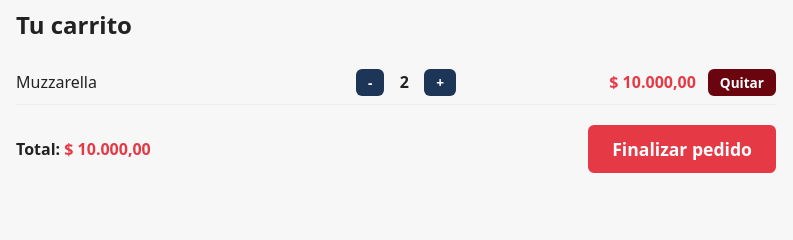
Test: <CartPage> › muestra error si actualizar falla
The image size is (793, 240).
Click the button named "Sumar uno". click: [440, 82]
box: left=424, top=69, right=456, bottom=96
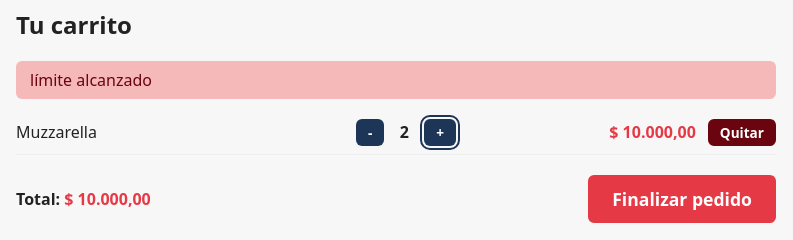
Check: the text "límite alcanzado" is shown, box left=16, top=61, right=776, bottom=99
